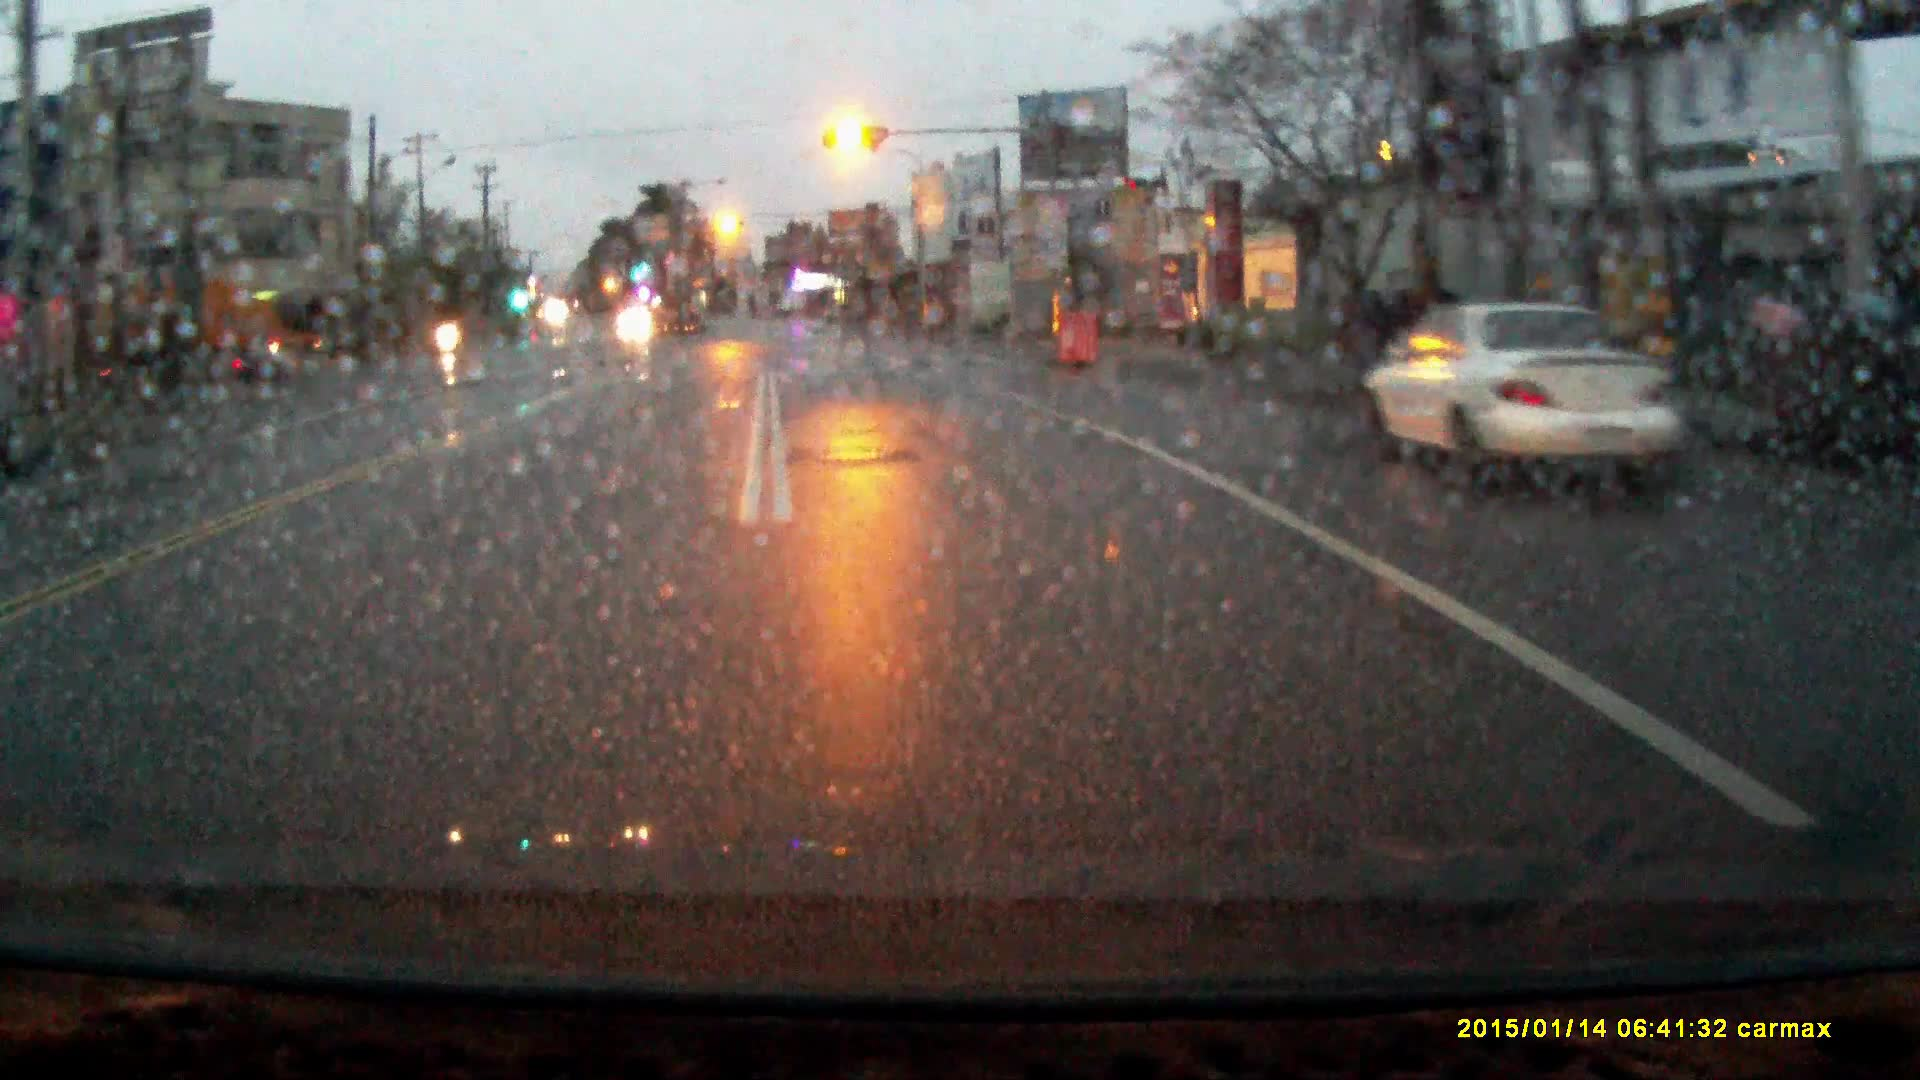rider: (431, 299, 466, 360)
vehicle: (1360, 301, 1716, 493), (64, 259, 306, 368), (618, 301, 654, 334)
